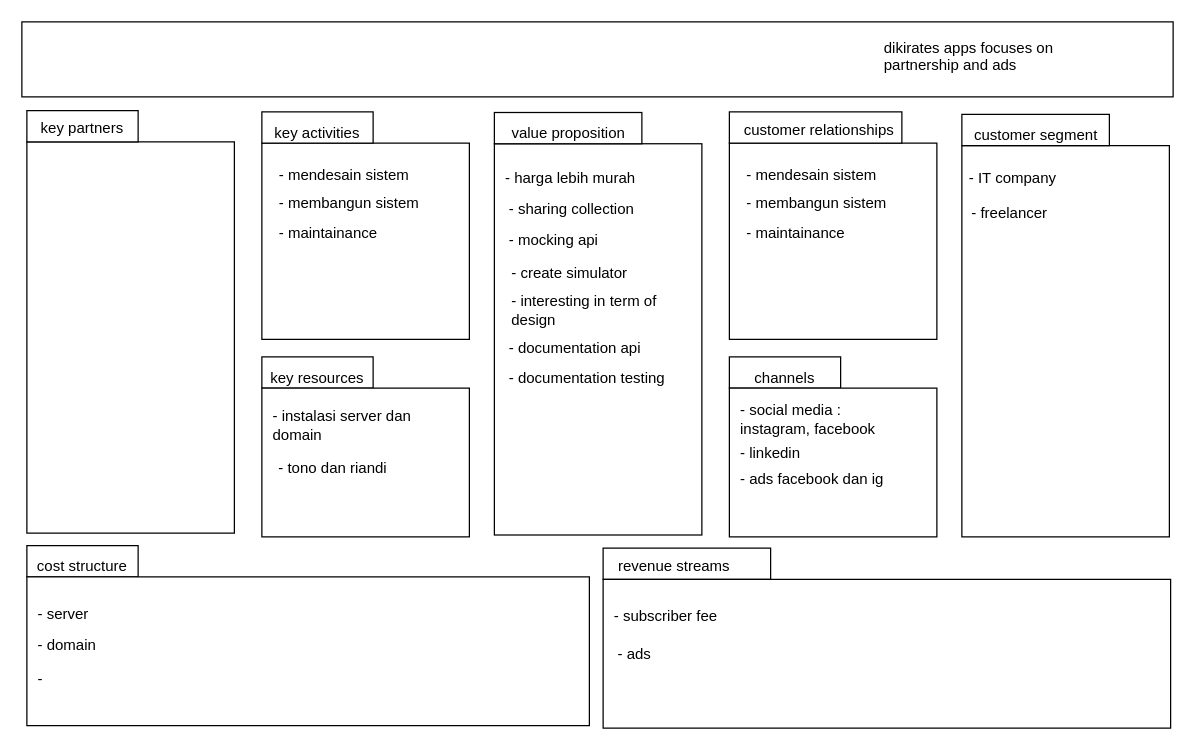
The diagram is 1195 pixels wide and 750 high, and some of its shapes have lost their labels. Here are the shapes that lost their labels. From the top down, the box of each, then its label:
(21, 21, 1173, 97): API test business model canvas
(26, 141, 234, 533): - penyedia jasa server dan domain
